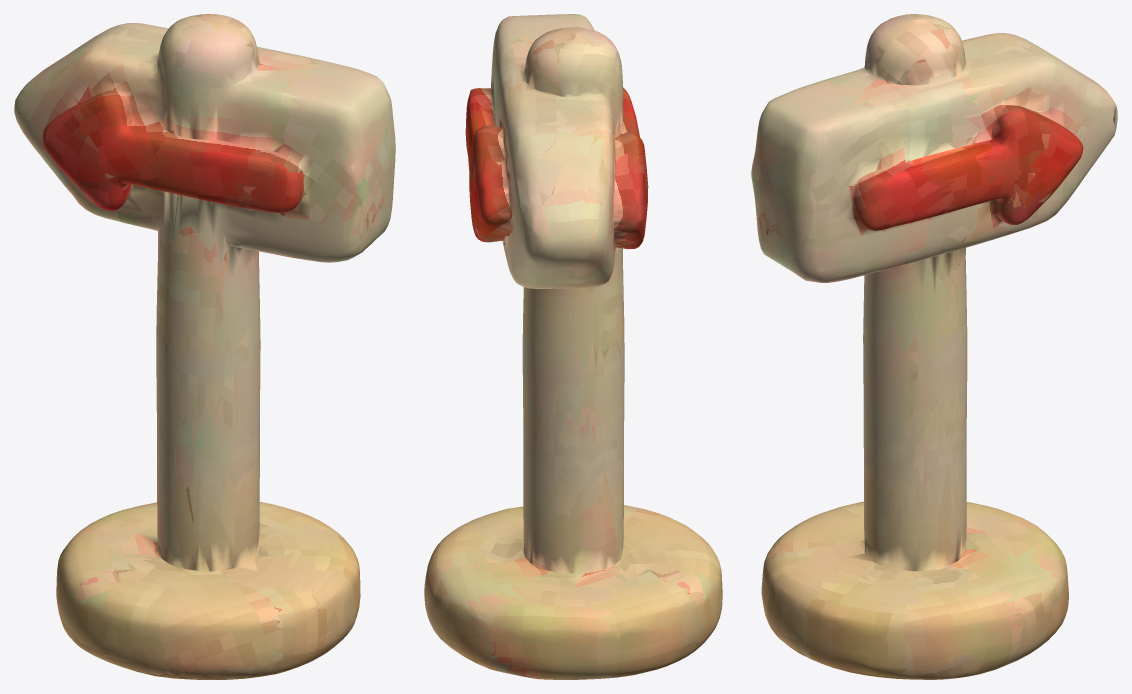
The model's file is JP_사물_s2_sm_drive_thru_sign.glb.
The picture shows the model from 3 angles, left to right: view 1: azimuth 30°, elevation 25°; view 2: azimuth 150°, elevation 25°; view 3: azimuth 270°, elevation 25°; orthographic projection. The views are drawn at different scales.
Visible parts, largest first — view 1: tripo_node_cfa57e36-4a8a-4418-aec6-4074fa2b3e9b; view 2: tripo_node_cfa57e36-4a8a-4418-aec6-4074fa2b3e9b; view 3: tripo_node_cfa57e36-4a8a-4418-aec6-4074fa2b3e9b.
Boxes of the visible parts, x1,y1,x2,y2 form: tripo_node_cfa57e36-4a8a-4418-aec6-4074fa2b3e9b: (14,14,395,679); tripo_node_cfa57e36-4a8a-4418-aec6-4074fa2b3e9b: (424,14,722,679); tripo_node_cfa57e36-4a8a-4418-aec6-4074fa2b3e9b: (751,14,1117,679).
Size of the model in its own units: 0.4564 by 1 by 0.5479.
Materials: 1 (1 with a texture image).
